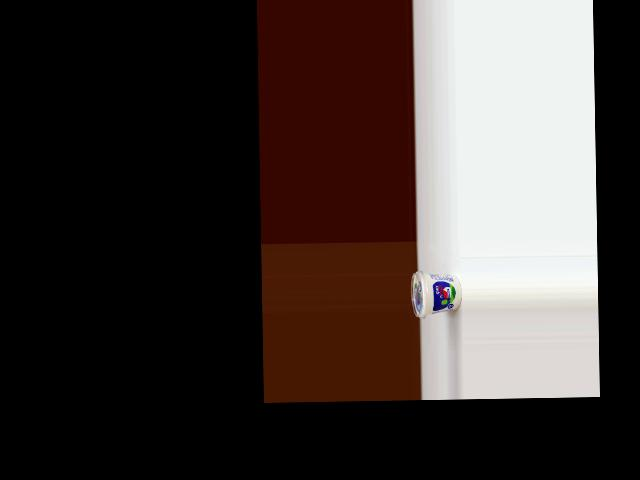cotage: (410, 268, 461, 318)
